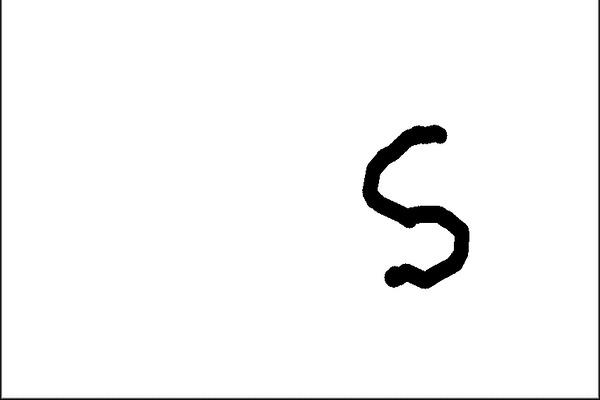S: (355, 118, 476, 290)
